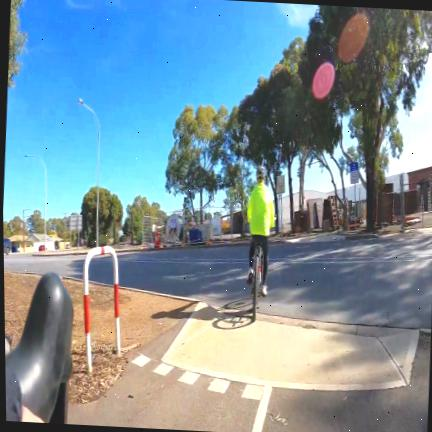Bike_Lane: (67, 321, 430, 432)
Bike_Sign: (350, 162, 358, 184)
